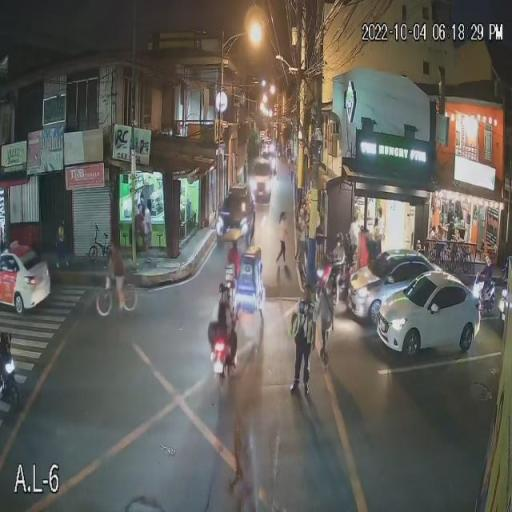helmet: (480, 252, 496, 268)
motorcycle: (472, 274, 496, 312)
rider: (479, 253, 495, 312)
